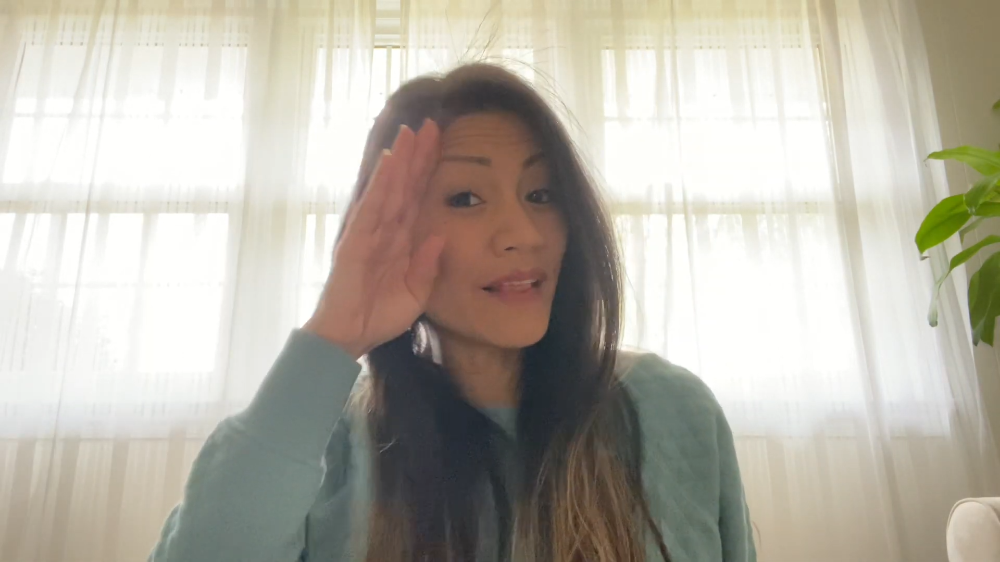hello: (310, 114, 455, 346)
